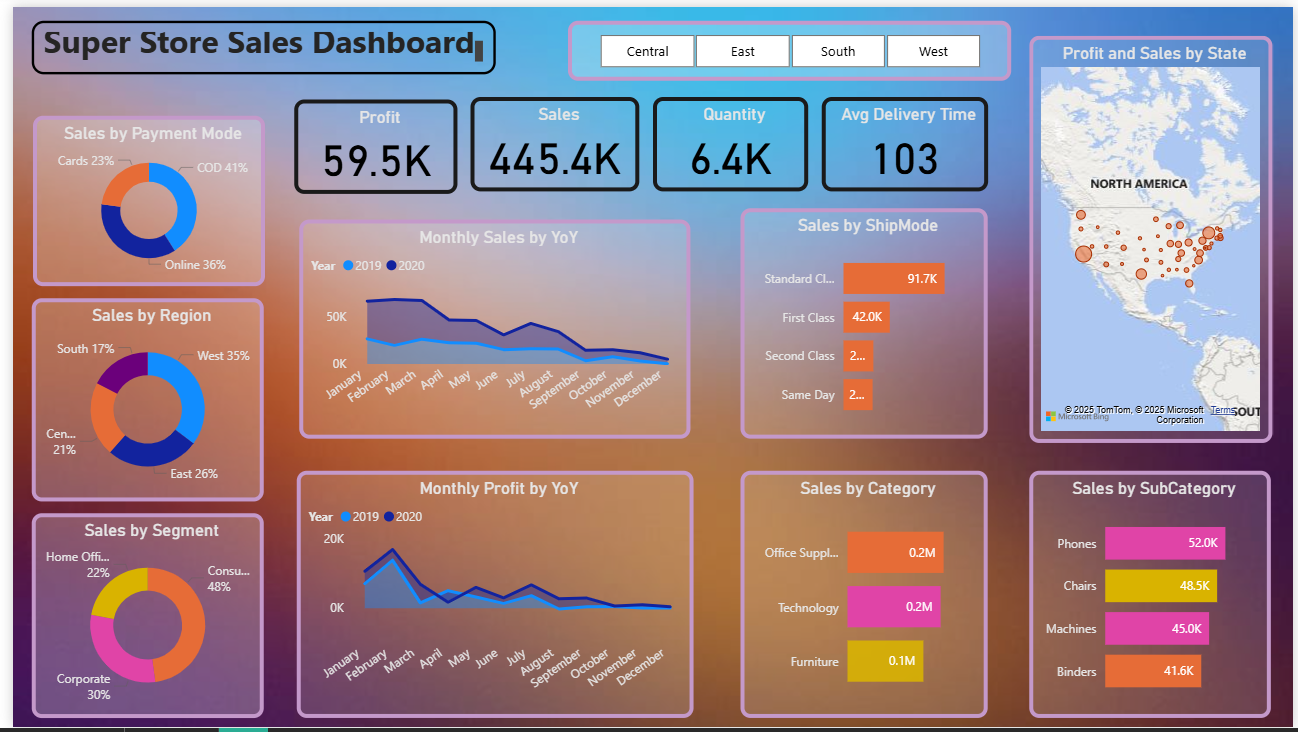

The page's visual inventory and layout, read from the dashboard file:
{"tool":"powerbi","page":{"name":"Page 1","canvas":[1280,720],"ordinal":0},"visuals":[{"type":"clusteredBarChart","title":"Sales by Category","fields":{"Category":["SuperStore_Sales_Dataset.Category"],"Y":["Sum(SuperStore_Sales_Dataset.Sales)"]},"box":[727.3,463.8,247,247],"z":0},{"type":"clusteredBarChart","title":"Sales by SubCategory","fields":{"Category":["SuperStore_Sales_Dataset.Sub-Category"],"Y":["Sum(SuperStore_Sales_Dataset.Sales)"]},"box":[1016.8,463.8,241.5,247],"z":1000},{"type":"clusteredBarChart","title":"Sales by ShipMode","fields":{"Category":["SuperStore_Sales_Dataset.Ship Mode"],"Y":["Sum(SuperStore_Sales_Dataset.Sales)"]},"box":[727.3,201.7,247,230.5],"z":2000},{"type":"stackedAreaChart","title":"Monthly Sales by  YoY","fields":{"Y":["Sum(SuperStore_Sales_Dataset.Sales)"],"Category":["SuperStore_Sales_Dataset.Order Date.Variation.Date Hierarchy.Month","SuperStore_Sales_Dataset.Order Date.Variation.Date Hierarchy.Day"],"Series":["SuperStore_Sales_Dataset.Order Date.Variation.Date Hierarchy.Year"]},"box":[286.8,212.7,391.1,219.6],"z":3000},{"type":"stackedAreaChart","title":"Monthly Profit by  YoY","fields":{"Category":["SuperStore_Sales_Dataset.Order Date.Variation.Date Hierarchy.Month","SuperStore_Sales_Dataset.Order Date.Variation.Date Hierarchy.Day"],"Series":["SuperStore_Sales_Dataset.Order Date.Variation.Date Hierarchy.Year"],"Y":["Sum(SuperStore_Sales_Dataset.Profit)"]},"box":[284,463.8,396.6,247],"z":4000},{"type":"map","title":"Profit and Sales by State","fields":{"Category":["SuperStore_Sales_Dataset.State"],"Size":["Sum(SuperStore_Sales_Dataset.Sales)"]},"box":[1016.8,28.8,242.9,407.5],"z":5000},{"type":"donutChart","title":"Sales by Region","fields":{"Category":["SuperStore_Sales_Dataset.Region"],"Y":["Sum(SuperStore_Sales_Dataset.Sales)"]},"box":[19.2,290.9,231.9,203.1],"z":6000},{"type":"donutChart","title":"Sales by Segment","fields":{"Category":["SuperStore_Sales_Dataset.Segment"],"Y":["Sum(SuperStore_Sales_Dataset.Sales)"]},"box":[19.2,506.3,231.9,204.5],"z":7000},{"type":"donutChart","title":"Sales by Payment Mode","fields":{"Category":["SuperStore_Sales_Dataset.Payment Mode"],"Y":["Sum(SuperStore_Sales_Dataset.Sales)"]},"box":[20.6,108.4,231.9,170.2],"z":8000},{"type":"slicer","fields":{"Values":["SuperStore_Sales_Dataset.Region"]},"box":[554.4,13.7,443.2,60.4],"z":9001},{"type":"card","title":"Sales","fields":{"Values":["Sum(SuperStore_Sales_Dataset.Sales)"]},"box":[456.9,90.6,168.8,94.7],"z":9002},{"type":"textbox","box":[19.2,13.7,463.8,53.5],"z":9003},{"type":"card","title":"Profit","fields":{"Values":["Sum(SuperStore_Sales_Dataset.Profit)"]},"box":[281.3,91.9,163.3,94.7],"z":9004},{"type":"card","title":"Quantity","fields":{"Values":["Sum(SuperStore_Sales_Dataset.Quantity)"]},"box":[639.5,90.6,155.1,94.7],"z":9005},{"type":"card","title":"Avg Delivery Time","fields":{"Values":["Avg(SuperStore_Sales_Dataset.AvgDeleiveryDay)"]},"box":[808.2,90.6,166,94.7],"z":9006}]}

Visuals, with their boxes in screenshot pixels (x1, y1, x2, y2), scaled from the page's 1280x720 canvas onto the 1298x732 screenshot:
"Sales by Category" clusteredBarChart: bbox(738, 472, 988, 723)
"Sales by SubCategory" clusteredBarChart: bbox(1031, 472, 1276, 723)
"Sales by ShipMode" clusteredBarChart: bbox(738, 205, 988, 439)
"Monthly Sales by  YoY" stackedAreaChart: bbox(291, 216, 687, 440)
"Monthly Profit by  YoY" stackedAreaChart: bbox(288, 472, 690, 723)
"Profit and Sales by State" map: bbox(1031, 29, 1277, 444)
"Sales by Region" donutChart: bbox(19, 296, 255, 502)
"Sales by Segment" donutChart: bbox(19, 515, 255, 723)
"Sales by Payment Mode" donutChart: bbox(21, 110, 256, 283)
slicer - SuperStore_Sales_Dataset.Region: bbox(562, 14, 1012, 75)
"Sales" card: bbox(463, 92, 634, 188)
textbox: bbox(19, 14, 490, 68)
"Profit" card: bbox(285, 93, 451, 190)
"Quantity" card: bbox(648, 92, 806, 188)
"Avg Delivery Time" card: bbox(820, 92, 988, 188)
